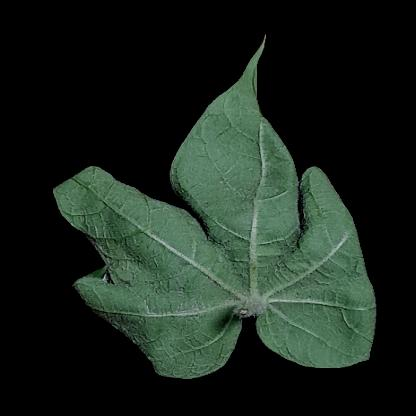curl_stage2: (250, 181, 329, 311), (162, 239, 229, 366), (193, 130, 277, 212), (280, 306, 370, 356), (103, 198, 164, 258), (94, 266, 162, 312), (206, 97, 264, 126), (67, 183, 109, 220)
